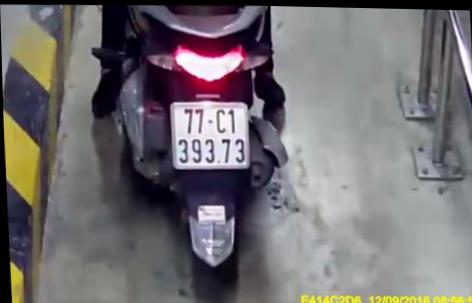LP: (167, 97, 251, 171)
